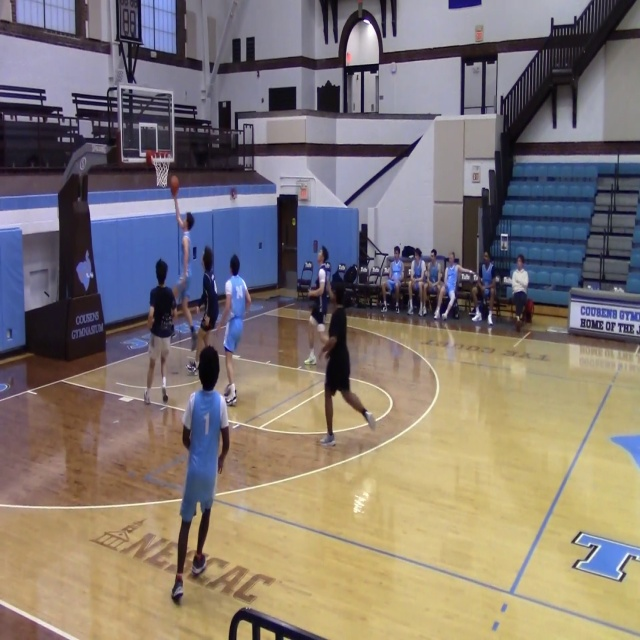Basketball: (170, 175, 179, 196), (317, 323, 325, 331)
